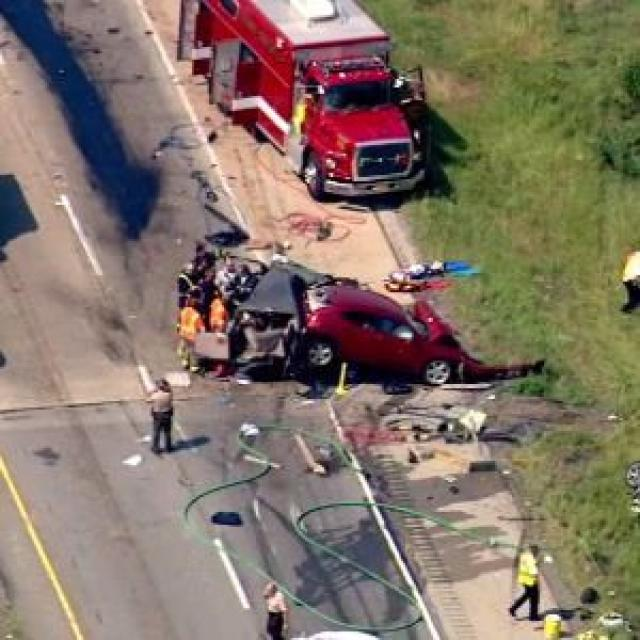traffic_incident: (164, 245, 518, 395)
